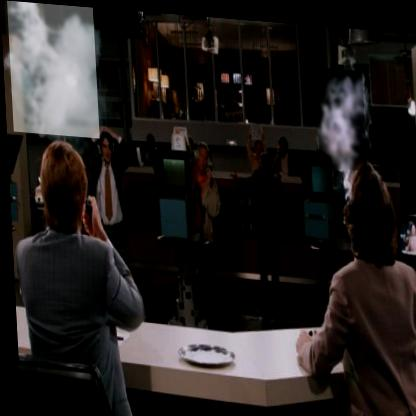smoke: (7, 0, 98, 137), (315, 62, 366, 165)
